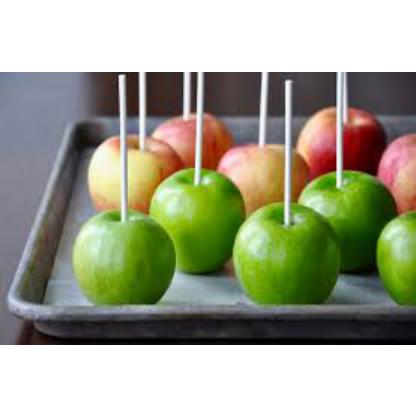apple: (148, 169, 244, 268), (240, 204, 334, 298), (74, 210, 172, 298), (296, 174, 388, 262), (85, 132, 175, 219), (215, 142, 309, 210), (298, 105, 386, 171), (151, 111, 233, 169), (378, 212, 414, 300)
